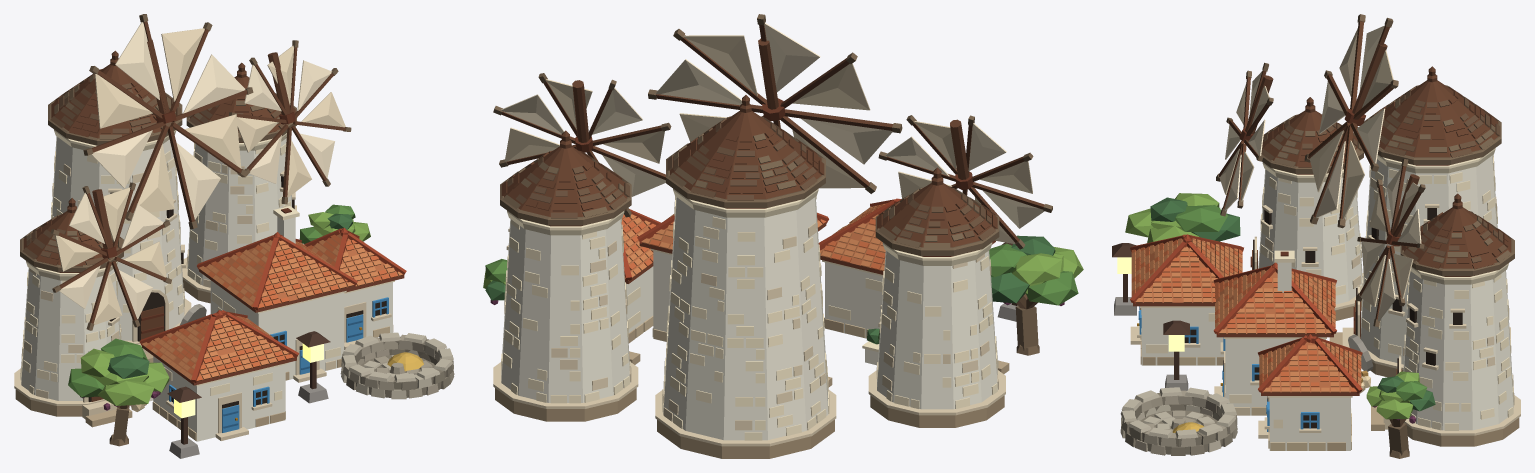
The model's file is windmill_hill_town.glb.
3 renders of one model, left to right at view 1: azimuth 30°, elevation 25°; view 2: azimuth 150°, elevation 25°; view 3: azimuth 270°, elevation 25°, orthographic. The views are drawn at different scales.
Visible parts, largest first — view 1: windmill_hill_town_WM_Whitewash, windmill_hill_town_WM_Wood, windmill_hill_town_WM_Canvas, windmill_hill_town_WM_CanvasShade, windmill_hill_town_WM_WhitewashShade, windmill_hill_town_WM_TerracottaLight, windmill_hill_town_WM_RoofTerracottaLight, windmill_hill_town_WM_Bark, windmill_hill_town_WM_StoneLight, windmill_hill_town_WM_Terracotta, windmill_hill_town_WM_RoofTerracotta, windmill_hill_town_WM_LeafFreshLight (+19 smaller); view 2: windmill_hill_town_WM_Whitewash, windmill_hill_town_WM_Wood, windmill_hill_town_WM_WhitewashShade, windmill_hill_town_WM_Canvas, windmill_hill_town_WM_CanvasShade, windmill_hill_town_WM_Bark, windmill_hill_town_WM_StoneLight, windmill_hill_town_WM_Branch, windmill_hill_town_WM_StoneShade, windmill_hill_town_WM_LeafFresh, windmill_hill_town_WM_TerracottaLight, windmill_hill_town_WM_LeafFreshDark (+8 smaller); view 3: windmill_hill_town_WM_Whitewash, windmill_hill_town_WM_Wood, windmill_hill_town_WM_WhitewashShade, windmill_hill_town_WM_TerracottaLight, windmill_hill_town_WM_Bark, windmill_hill_town_WM_Canvas, windmill_hill_town_WM_RoofTerracottaLight, windmill_hill_town_WM_CanvasShade, windmill_hill_town_WM_StoneLight, windmill_hill_town_WM_RoofTerracotta, windmill_hill_town_WM_Terracotta, windmill_hill_town_WM_Branch (+17 smaller).
Boxes of the visible parts, bbox=[...] form: windmill_hill_town_WM_Whitewash: bbox=[21, 136, 392, 441]; windmill_hill_town_WM_Wood: bbox=[23, 21, 345, 323]; windmill_hill_town_WM_Canvas: bbox=[59, 22, 334, 318]; windmill_hill_town_WM_CanvasShade: bbox=[55, 28, 345, 325]; windmill_hill_town_WM_WhitewashShade: bbox=[20, 129, 394, 400]; windmill_hill_town_WM_TerracottaLight: bbox=[142, 233, 402, 379]; windmill_hill_town_WM_RoofTerracottaLight: bbox=[146, 234, 397, 381]; windmill_hill_town_WM_Bark: bbox=[20, 14, 351, 446]; windmill_hill_town_WM_StoneLight: bbox=[14, 151, 391, 440]; windmill_hill_town_WM_Terracotta: bbox=[148, 233, 398, 382]; windmill_hill_town_WM_RoofTerracotta: bbox=[139, 228, 406, 382]; windmill_hill_town_WM_LeafFreshLight: bbox=[80, 212, 370, 405]; windmill_hill_town_WM_Whitewash: bbox=[501, 197, 997, 440]; windmill_hill_town_WM_Wood: bbox=[501, 24, 1044, 247]; windmill_hill_town_WM_WhitewashShade: bbox=[501, 188, 997, 440]; windmill_hill_town_WM_Canvas: bbox=[501, 23, 1044, 228]; windmill_hill_town_WM_CanvasShade: bbox=[504, 35, 1032, 243]; windmill_hill_town_WM_Bark: bbox=[493, 14, 1052, 355]; windmill_hill_town_WM_StoneLight: bbox=[493, 222, 1005, 446]; windmill_hill_town_WM_Branch: bbox=[507, 116, 1037, 309]; windmill_hill_town_WM_StoneShade: bbox=[495, 388, 1004, 458]; windmill_hill_town_WM_LeafFresh: bbox=[485, 243, 1078, 341]; windmill_hill_town_WM_TerracottaLight: bbox=[623, 203, 885, 278]; windmill_hill_town_WM_LeafFreshDark: bbox=[485, 235, 1055, 344]; windmill_hill_town_WM_Whitewash: bbox=[1141, 155, 1513, 450]; windmill_hill_town_WM_Wood: bbox=[1219, 21, 1511, 319]; windmill_hill_town_WM_WhitewashShade: bbox=[1140, 148, 1514, 430]; windmill_hill_town_WM_TerracottaLight: bbox=[1131, 238, 1361, 392]; windmill_hill_town_WM_Bark: bbox=[1216, 14, 1514, 458]; windmill_hill_town_WM_Canvas: bbox=[1224, 25, 1421, 321]; windmill_hill_town_WM_RoofTerracottaLight: bbox=[1131, 239, 1361, 392]; windmill_hill_town_WM_CanvasShade: bbox=[1220, 28, 1419, 306]; windmill_hill_town_WM_StoneLight: bbox=[1130, 165, 1520, 449]; windmill_hill_town_WM_RoofTerracotta: bbox=[1130, 234, 1362, 393]; windmill_hill_town_WM_Terracotta: bbox=[1132, 239, 1356, 392]; windmill_hill_town_WM_Branch: bbox=[1261, 85, 1512, 426].
Bounding box in the file's own units: 4.07 × 3.21 × 3.52.
